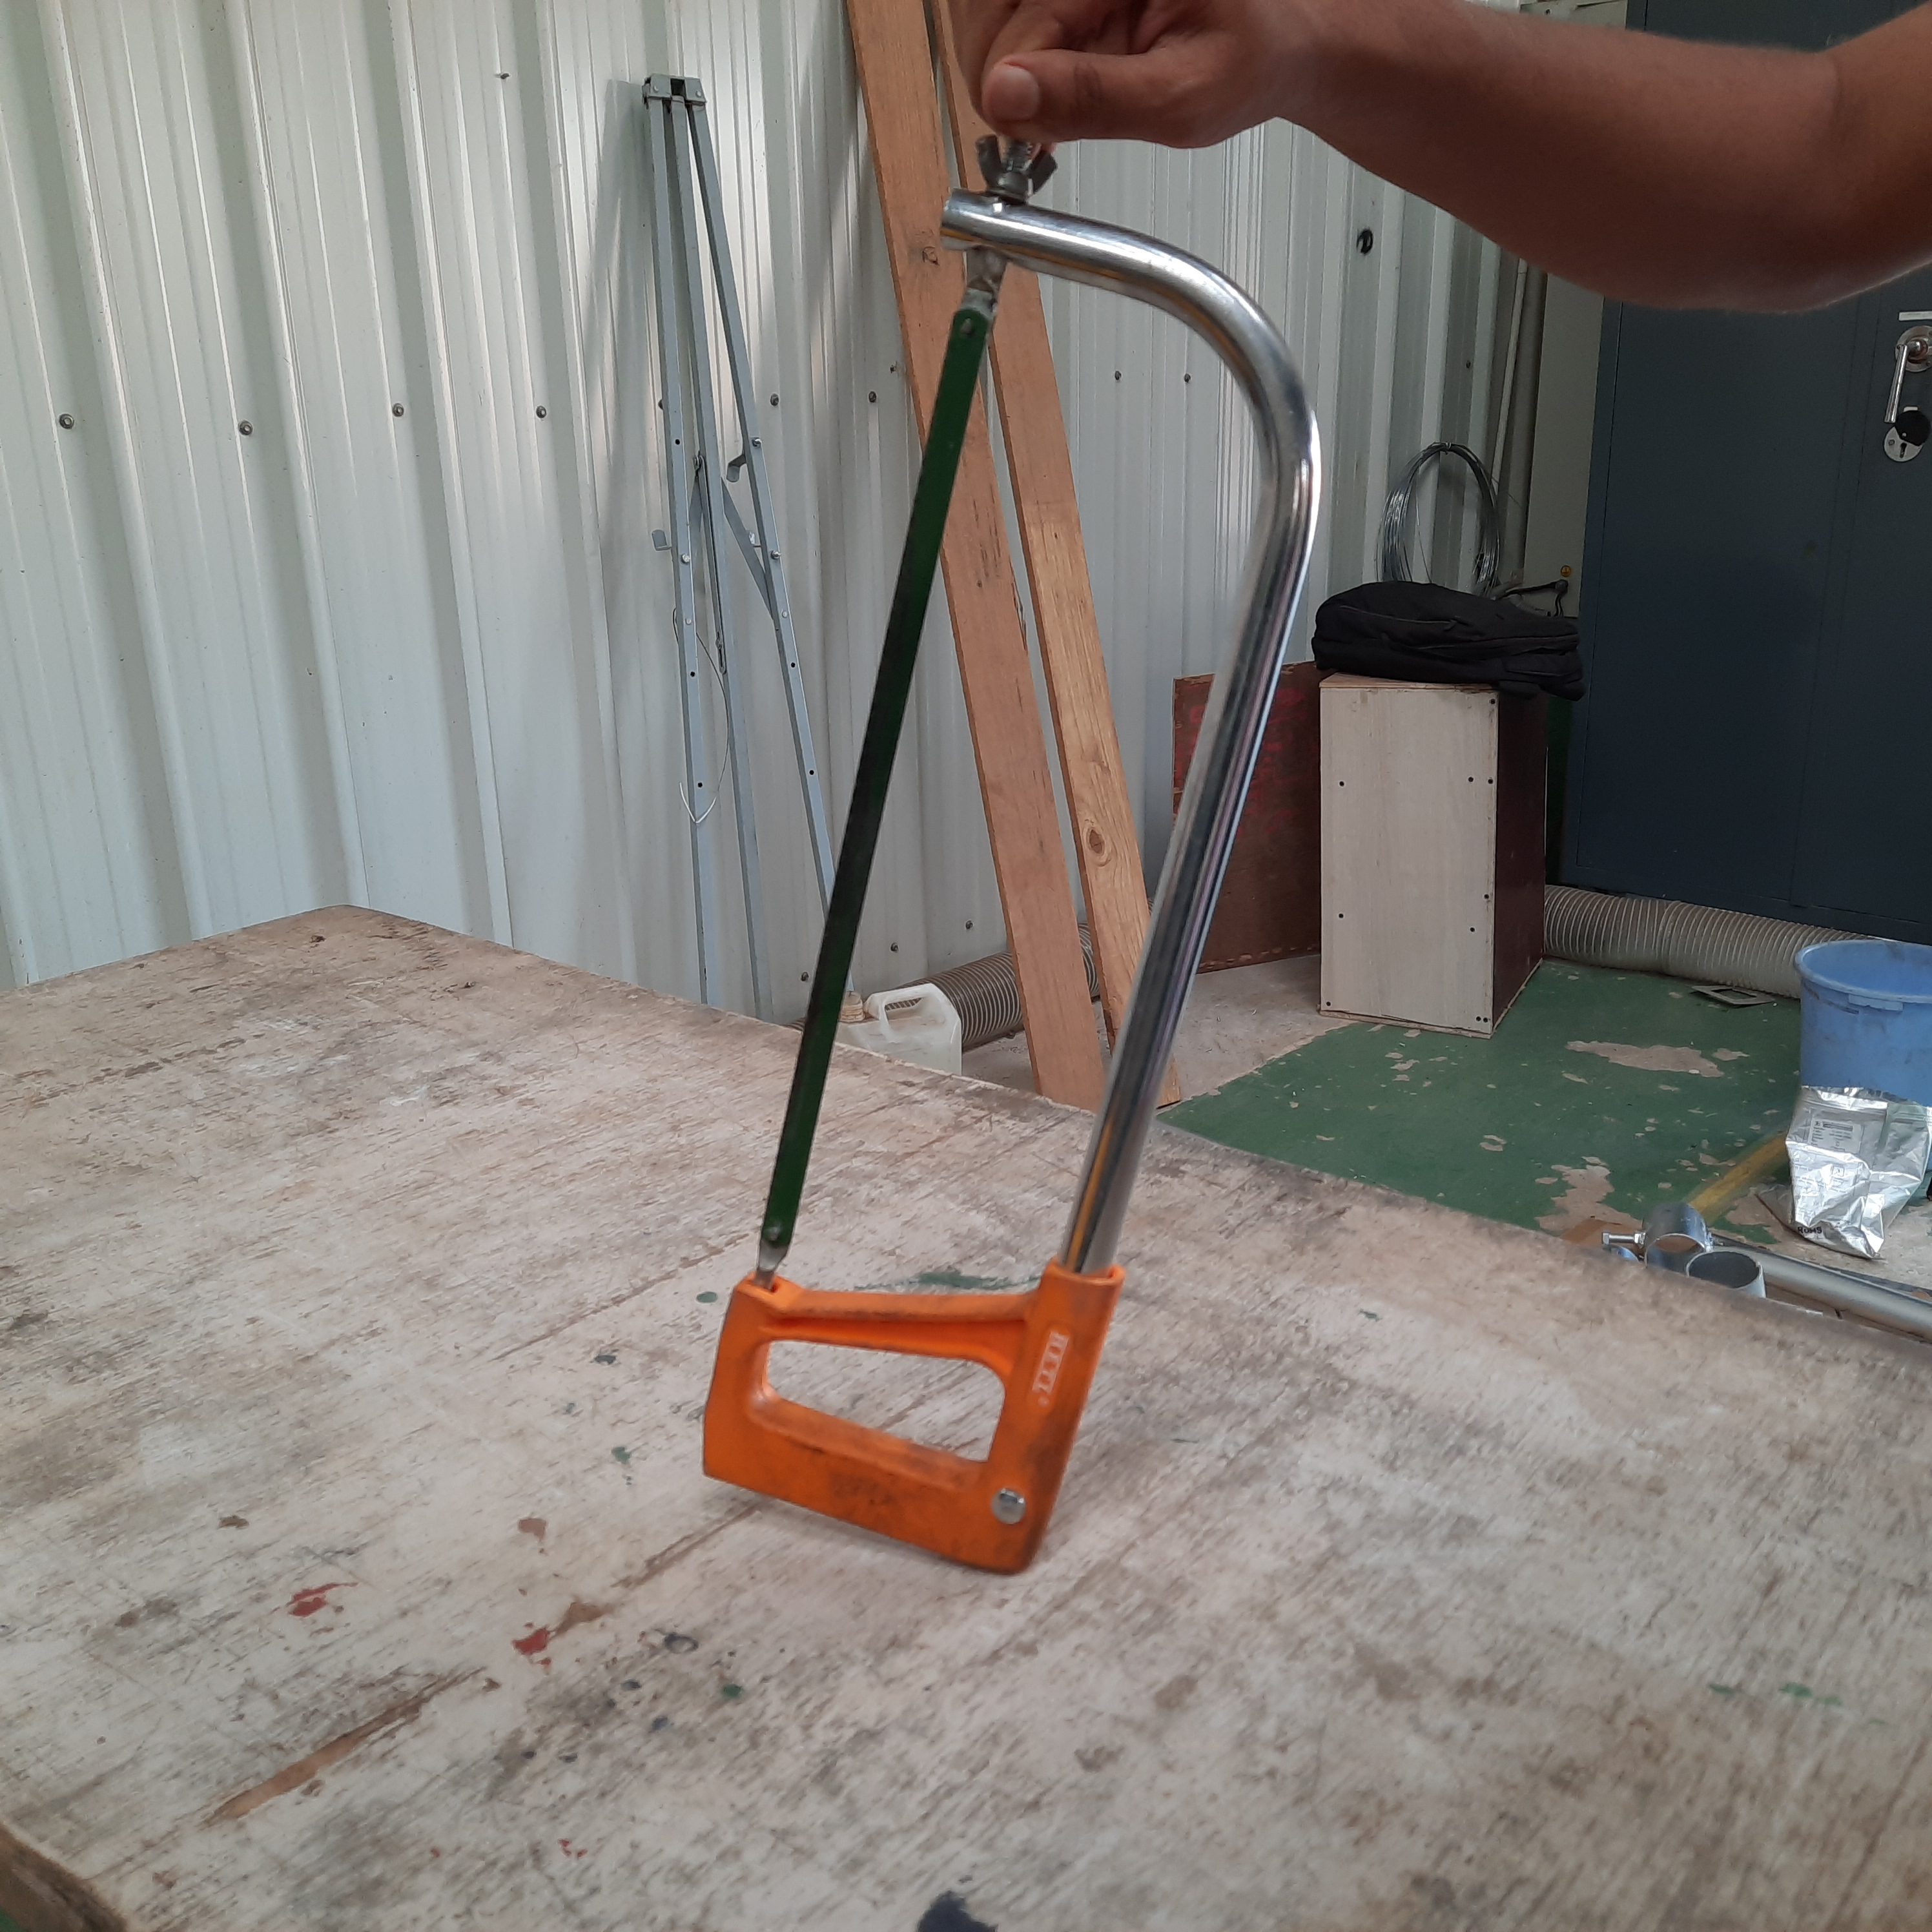Hexaframe: (686, 120, 1332, 1605)
